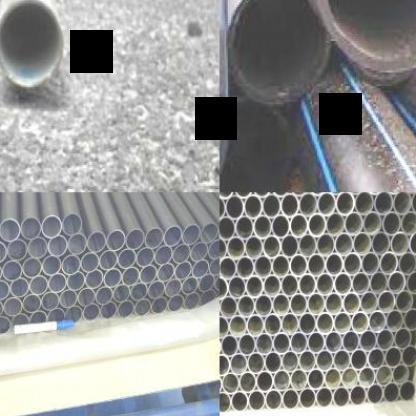pipe: (223, 0, 332, 108), (310, 0, 416, 76), (0, 0, 62, 88), (20, 216, 42, 240), (28, 236, 50, 260), (7, 238, 29, 262), (280, 192, 300, 218), (61, 212, 82, 236), (41, 214, 62, 238), (344, 210, 364, 235), (371, 231, 391, 256), (352, 231, 372, 256), (298, 233, 318, 258), (262, 192, 281, 218), (226, 194, 244, 221), (144, 226, 165, 249), (0, 218, 20, 242), (80, 250, 100, 274), (306, 292, 326, 316), (373, 192, 393, 216), (354, 192, 374, 216), (298, 192, 318, 216), (280, 234, 300, 258), (306, 252, 326, 276), (262, 274, 282, 298), (219, 294, 238, 319), (363, 210, 382, 235), (382, 210, 401, 235), (308, 212, 327, 237), (271, 214, 290, 239), (253, 214, 272, 239), (316, 233, 335, 258), (226, 235, 245, 260), (61, 254, 82, 276), (87, 231, 107, 254), (68, 232, 88, 255), (48, 235, 68, 258), (116, 247, 136, 270), (42, 254, 62, 277), (22, 256, 42, 279), (2, 259, 22, 282), (342, 291, 361, 315), (289, 292, 308, 316), (237, 294, 256, 318), (263, 312, 282, 336), (335, 192, 354, 216), (317, 192, 336, 216), (390, 231, 409, 255), (334, 232, 353, 256), (262, 234, 281, 258), (379, 251, 398, 275), (361, 251, 380, 275), (343, 252, 362, 276), (325, 252, 344, 276), (236, 256, 255, 280), (387, 270, 406, 294), (369, 270, 388, 294), (298, 272, 317, 296), (245, 274, 264, 298), (324, 291, 342, 316), (244, 194, 262, 219), (244, 235, 262, 260), (254, 254, 272, 279), (125, 228, 145, 250), (106, 229, 126, 251), (135, 246, 155, 268), (48, 272, 68, 294), (30, 274, 50, 296), (394, 290, 414, 312), (200, 221, 219, 244), (99, 249, 118, 272), (377, 290, 396, 313), (315, 349, 334, 372), (360, 290, 378, 314), (272, 292, 290, 316), (254, 293, 272, 317), (351, 310, 369, 334), (334, 310, 352, 334), (316, 311, 334, 335), (281, 312, 299, 336), (246, 313, 264, 337), (229, 314, 247, 338), (359, 328, 377, 352), (220, 333, 238, 357), (264, 350, 282, 374), (230, 352, 248, 376), (290, 368, 308, 392), (326, 212, 344, 236), (290, 214, 308, 238), (236, 216, 254, 240), (398, 251, 416, 275), (290, 254, 308, 278), (272, 254, 290, 278), (352, 271, 370, 295), (334, 272, 352, 296), (316, 272, 334, 296), (281, 273, 299, 297), (228, 275, 246, 299), (66, 271, 86, 292), (3, 296, 23, 317), (172, 242, 191, 264), (154, 244, 173, 266), (103, 267, 122, 289), (41, 290, 60, 312), (247, 352, 266, 374), (393, 192, 412, 214), (386, 309, 404, 332), (298, 312, 316, 335), (394, 326, 412, 349), (376, 328, 394, 351), (342, 330, 360, 353), (324, 330, 342, 353), (307, 331, 325, 354), (290, 331, 308, 354), (238, 333, 256, 356), (333, 349, 351, 372), (282, 350, 300, 373), (341, 366, 359, 389), (324, 367, 342, 390), (256, 370, 274, 393), (282, 387, 300, 410), (249, 388, 266, 412), (219, 216, 236, 240), (10, 278, 30, 298), (400, 210, 416, 235), (85, 269, 104, 290), (94, 285, 113, 306), (22, 293, 41, 314), (182, 224, 200, 246), (164, 225, 182, 247), (190, 240, 208, 262), (122, 266, 140, 288), (272, 332, 290, 354), (367, 347, 385, 369), (350, 348, 368, 370), (298, 350, 316, 372), (392, 363, 410, 385), (358, 366, 376, 388), (366, 382, 384, 404), (385, 345, 402, 368), (333, 385, 350, 408), (231, 390, 248, 413), (220, 256, 236, 280), (147, 280, 166, 300), (129, 282, 148, 302), (59, 289, 78, 309), (192, 258, 210, 279), (174, 260, 192, 281), (369, 310, 386, 332), (223, 372, 240, 394), (316, 386, 333, 408), (265, 388, 282, 410), (256, 332, 272, 355), (308, 367, 324, 390), (274, 369, 290, 392), (240, 370, 256, 393), (300, 386, 316, 409), (157, 262, 175, 282), (140, 264, 158, 284), (77, 287, 95, 307), (82, 302, 100, 322), (376, 364, 392, 386), (400, 380, 416, 402), (384, 382, 400, 404), (350, 384, 366, 406), (199, 288, 218, 306), (134, 298, 152, 317), (100, 301, 118, 320), (65, 304, 83, 323), (47, 306, 66, 324), (29, 309, 48, 327), (165, 278, 182, 298), (113, 284, 130, 304), (151, 296, 168, 316), (401, 344, 416, 366), (198, 274, 216, 292), (116, 300, 134, 318), (12, 312, 30, 330), (168, 293, 184, 313), (183, 292, 200, 310), (182, 276, 198, 294), (207, 238, 220, 260), (403, 308, 416, 330), (220, 391, 232, 413), (405, 271, 416, 294), (0, 315, 12, 336), (0, 278, 11, 300), (220, 315, 230, 339), (220, 353, 230, 376), (209, 256, 220, 276), (219, 276, 228, 300), (408, 230, 416, 255), (219, 236, 227, 260), (219, 194, 226, 219), (0, 239, 7, 263), (410, 192, 416, 214), (214, 271, 220, 291), (233, 192, 253, 198), (252, 192, 271, 198), (0, 298, 4, 320)
